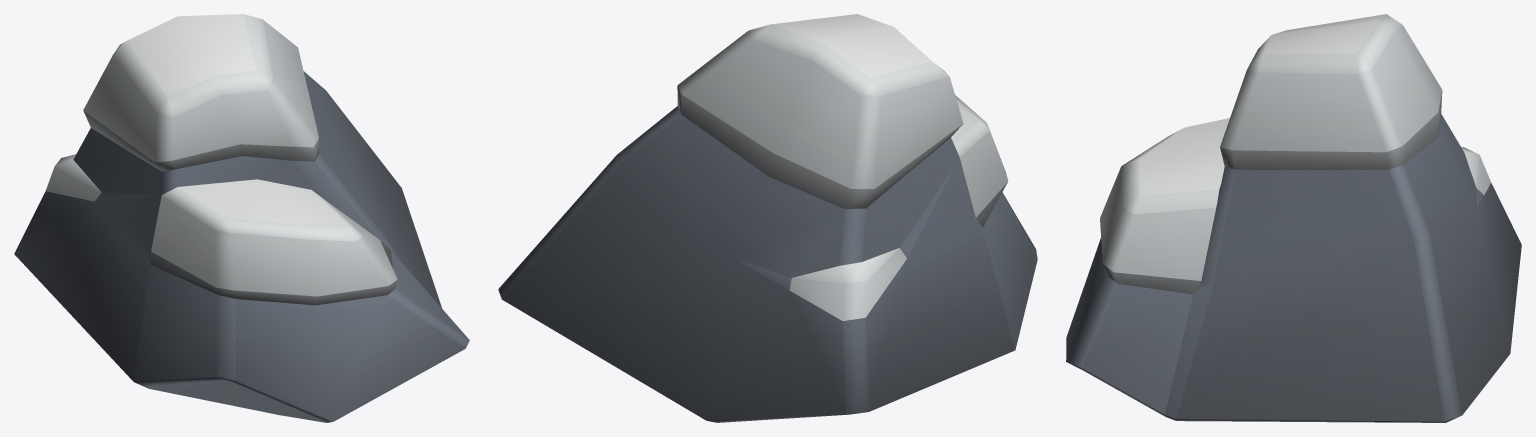
File: rock_snow_018.fbx
3 views of the same model, side by side, from view 1: azimuth 30°, elevation 25°; view 2: azimuth 150°, elevation 25°; view 3: azimuth 270°, elevation 25° (orthographic). The views are drawn at different scales.
Visible parts, largest first — view 1: rock_snow_018; view 2: rock_snow_018; view 3: rock_snow_018.
Part boxes in pixels (x1,y1,x2,y2): rock_snow_018: (14, 14, 469, 422); rock_snow_018: (498, 14, 1037, 422); rock_snow_018: (1066, 14, 1521, 422).
Size of the model in its own units: 244 by 219 by 253.
